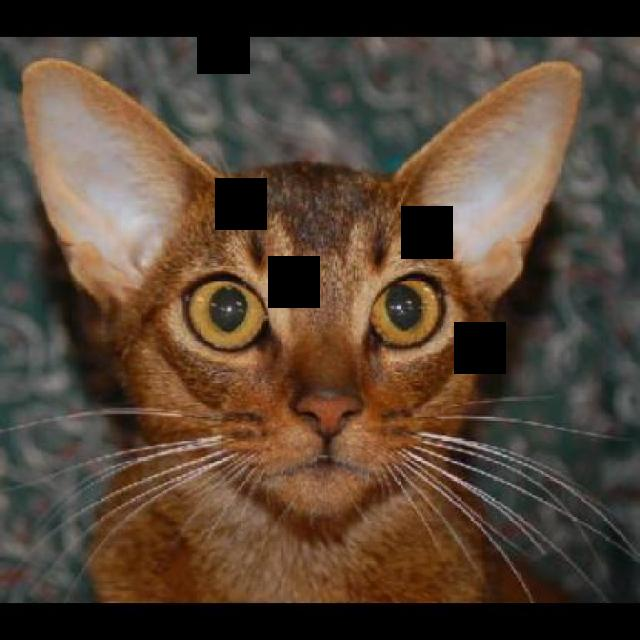unauthorized: (0, 54, 638, 603)
